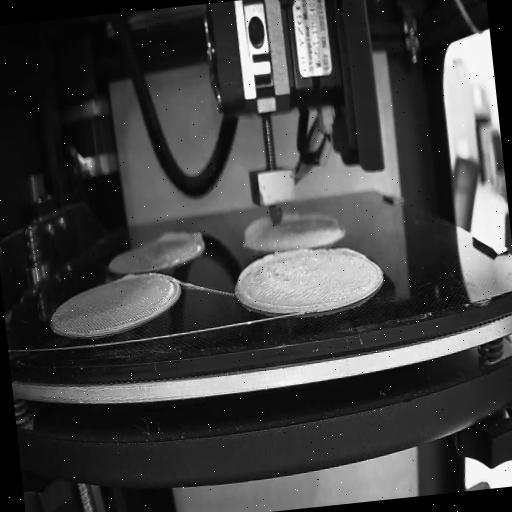over_extrusion: (233, 249, 308, 317), (157, 224, 209, 252), (240, 216, 276, 249), (333, 240, 366, 264), (120, 270, 140, 284), (285, 209, 302, 224)
